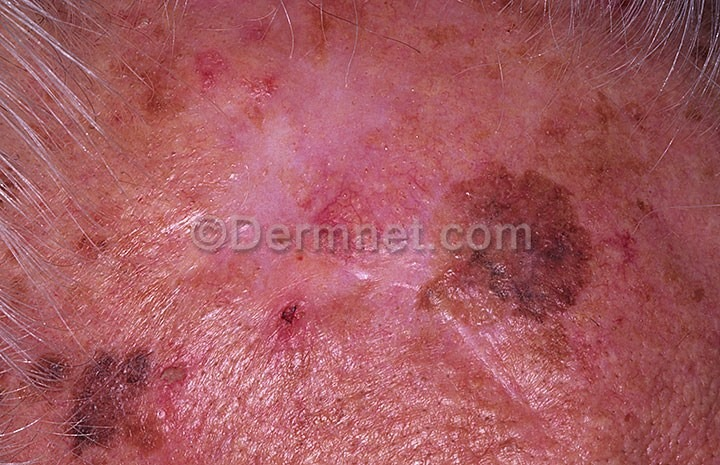Melasma: (368, 0, 456, 3)
